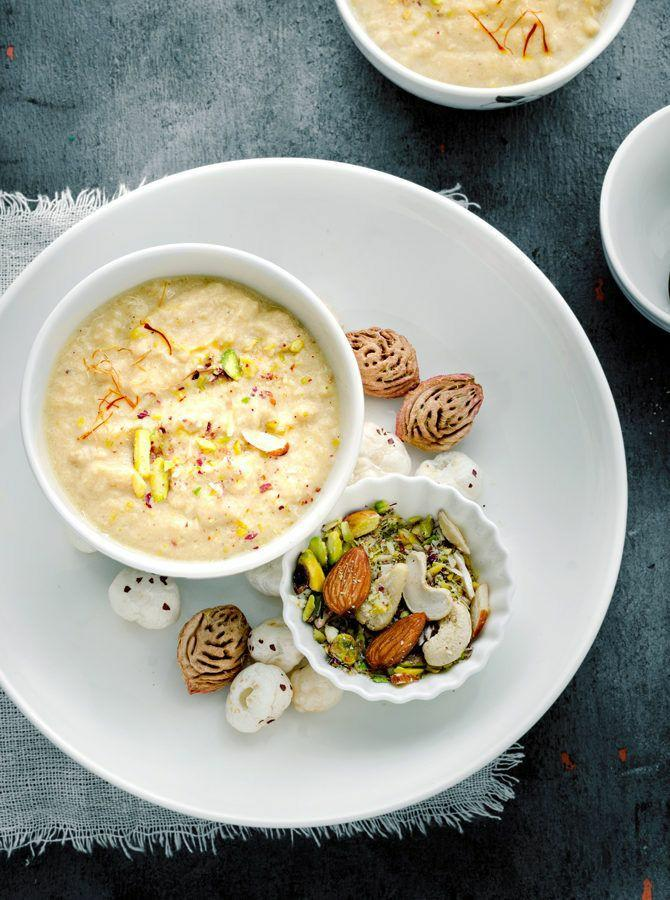Kheer: (38, 276, 343, 552), (344, 0, 612, 86)
